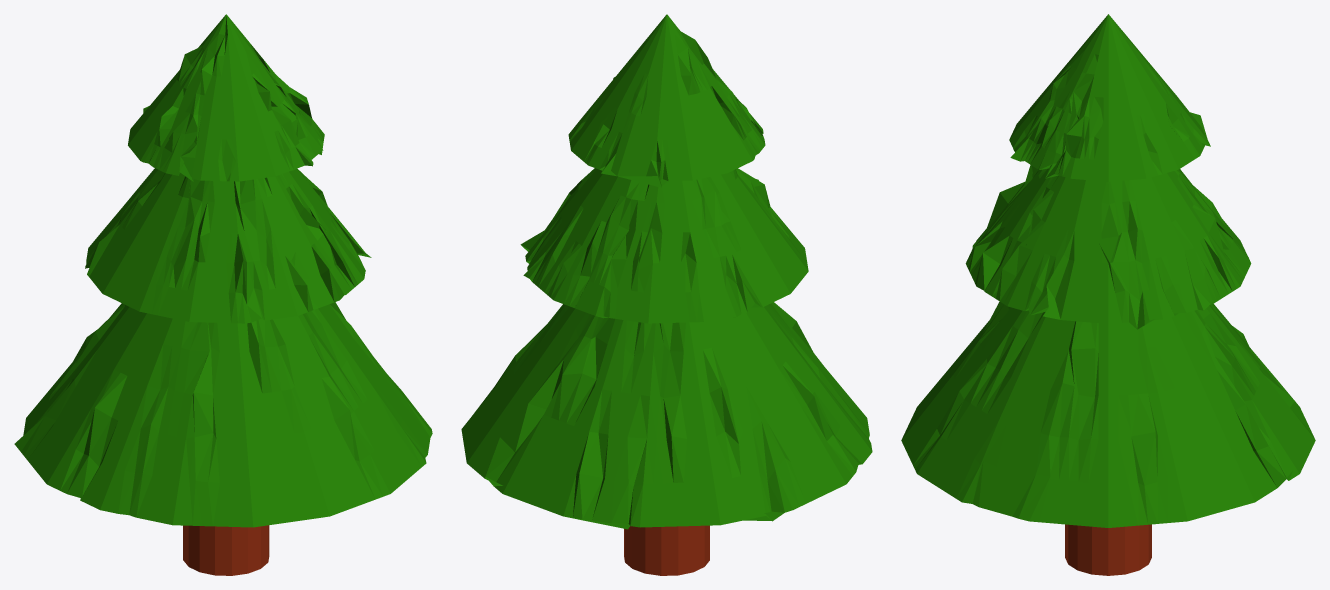
Rendered from G477Pinetree.fbx.
3 renders of one model, left to right at view 1: azimuth 30°, elevation 25°; view 2: azimuth 150°, elevation 25°; view 3: azimuth 270°, elevation 25°, orthographic.
Parts seen in each view (by area): view 1: Cone.001; view 2: Cone.001; view 3: Cone.001.
Boxes of the visible parts, box(x1,y1,x2,y2) form: Cone.001: box(14, 14, 432, 575); Cone.001: box(461, 14, 872, 575); Cone.001: box(901, 14, 1315, 575).
Size of the model in its own units: 1200 by 1736 by 1200.
